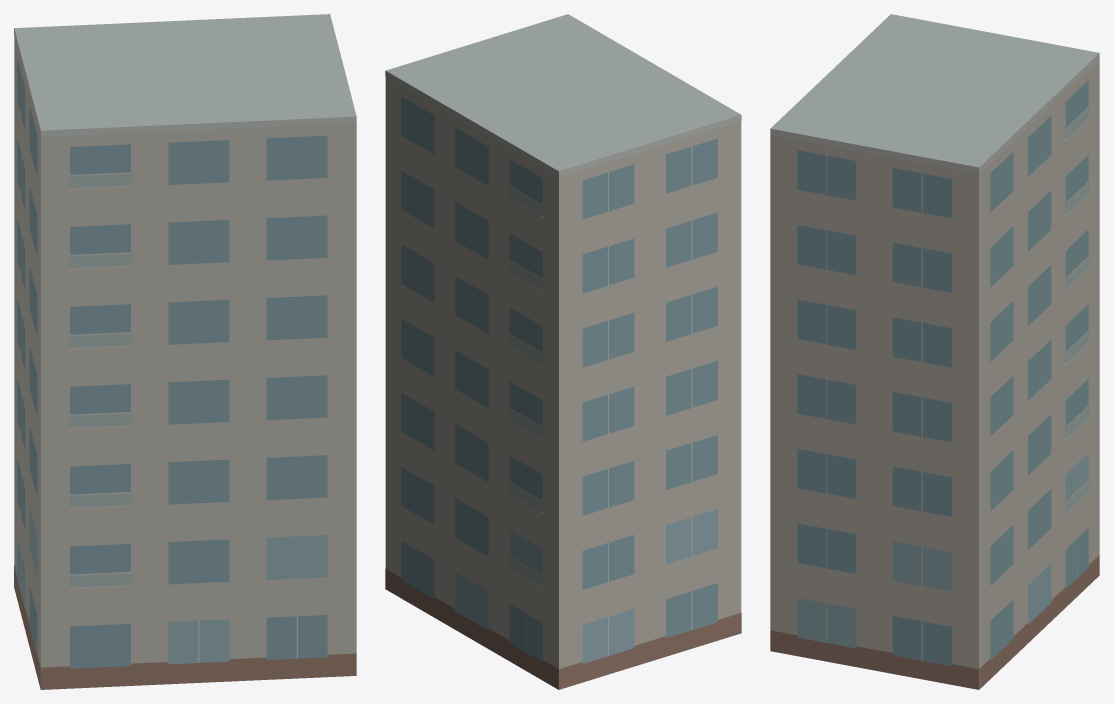
File: survey-upis-32670345.glb
The picture shows the model from 3 angles, left to right: view 1: azimuth 30°, elevation 25°; view 2: azimuth 150°, elevation 25°; view 3: azimuth 270°, elevation 25°; orthographic projection. The views are drawn at different scales.
Parts seen in each view (by area): view 1: survey-upis-32670345.tmp; view 2: survey-upis-32670345.tmp; view 3: survey-upis-32670345.tmp.
Boxes of the visible parts, box(x1,y1,x2,y2) form: survey-upis-32670345.tmp: box(14, 14, 356, 689); survey-upis-32670345.tmp: box(385, 14, 741, 689); survey-upis-32670345.tmp: box(770, 14, 1099, 689).
Bounding box in the file's own units: 13.17 × 20.9 × 11.95.
